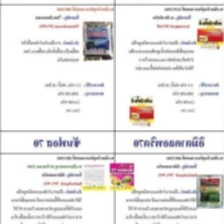insecticide: (81, 19, 114, 63), (193, 14, 223, 53), (127, 90, 157, 129), (193, 174, 224, 211), (108, 162, 137, 192)
